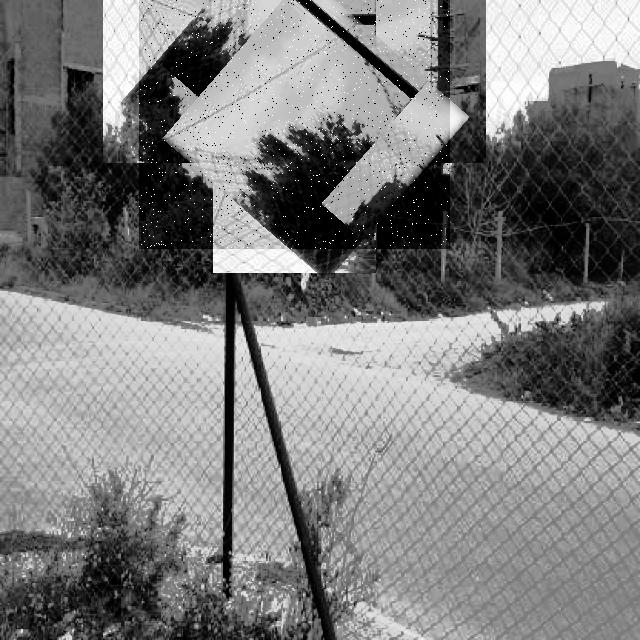anomaly-fence: (139, 0, 450, 249)
